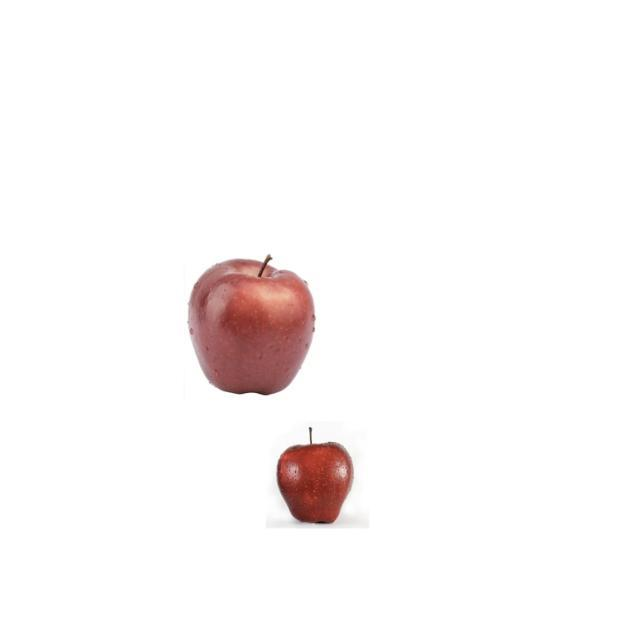Fresh Apple: (185, 252, 317, 396), (273, 433, 362, 535)
